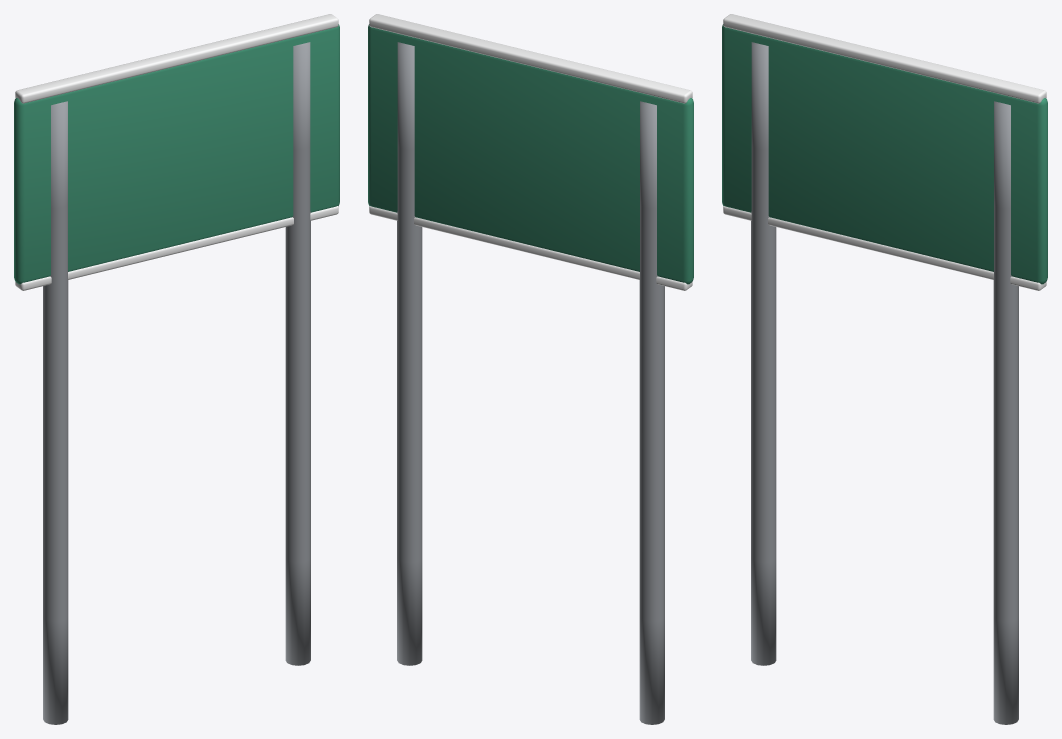
File: signpost.glb
3 renders of one model, left to right at view 1: azimuth 30°, elevation 25°; view 2: azimuth 150°, elevation 25°; view 3: azimuth 330°, elevation 25°, orthographic.
Parts seen in each view (by area): view 1: signpost; view 2: signpost; view 3: signpost.
Part boxes in pixels (bbox=[...]): signpost: bbox=[14, 14, 339, 724]; signpost: bbox=[368, 14, 693, 724]; signpost: bbox=[722, 14, 1047, 724].
Bounding box in the file's own units: 1.12 × 2.11 × 0.076.
